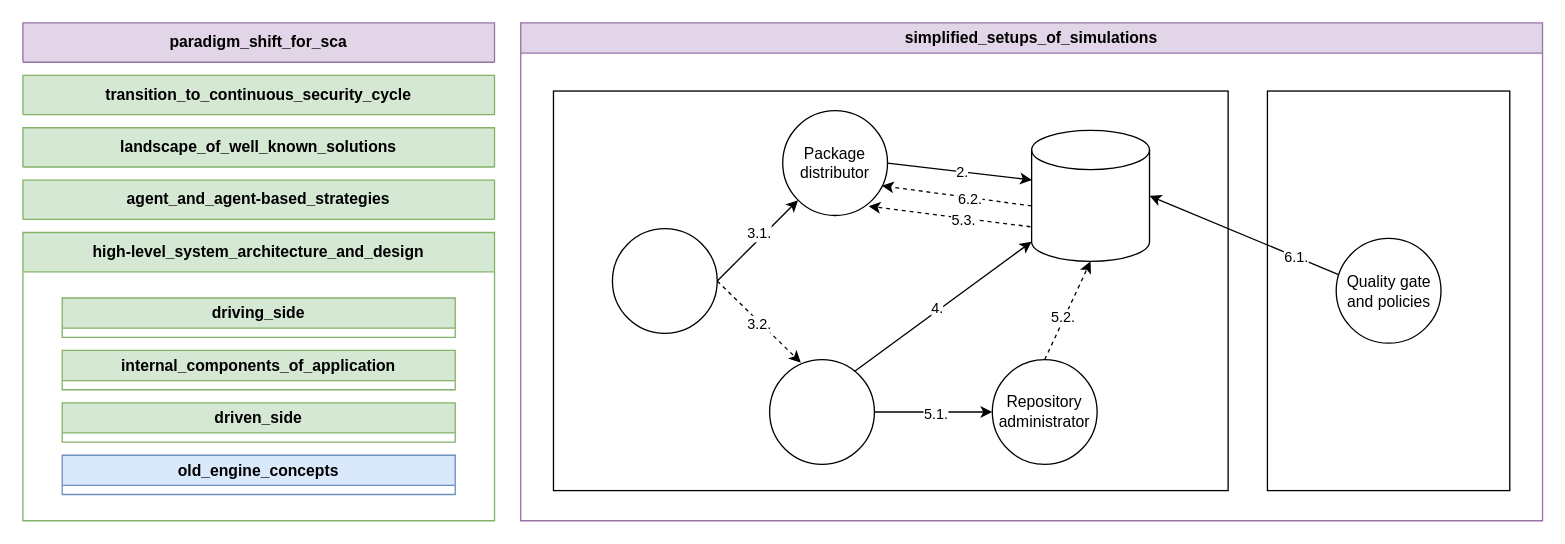
Some shapes in this 1565 by 544 pixel diagram are drawn without their labels. Here are the shapes that lost their labels. From the top down, the centre of each, then its label:
At [1090,195]: "Packages repository or registry".
At [664,280]: "Threat actors".
At [821,411]: "Developer as regular user".
